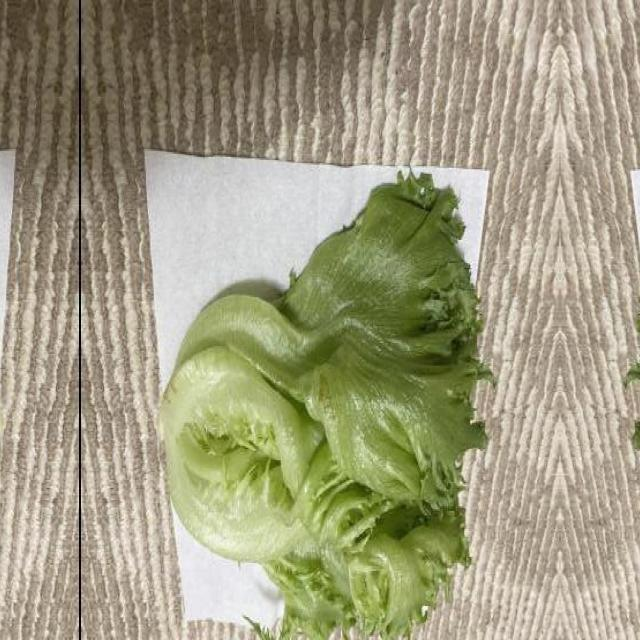healthy: (155, 158, 508, 640), (612, 158, 640, 639), (0, 158, 5, 639)
